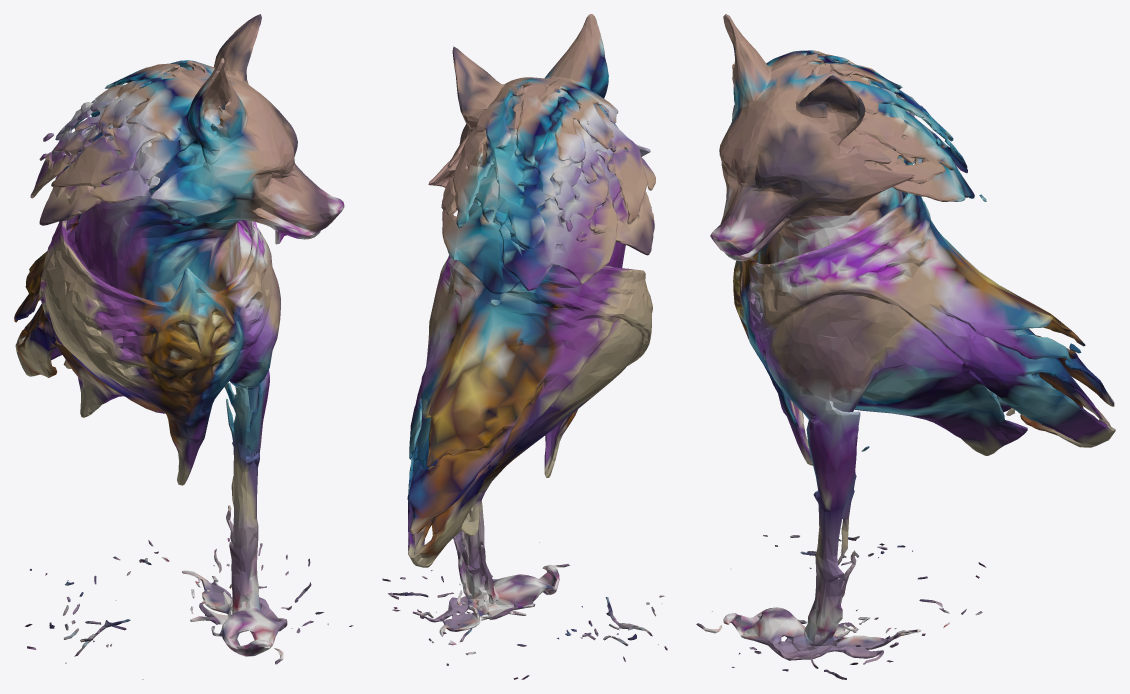
File: nineTailFoxSummon.glb
3 renders of one model, left to right at view 1: azimuth 30°, elevation 25°; view 2: azimuth 150°, elevation 25°; view 3: azimuth 270°, elevation 25°, orthographic. The views are drawn at different scales.
Parts seen in each view (by area): view 1: world; view 2: world; view 3: world.
Part boxes in pixels (<box>): world: <box>14,14,353,679</box>; world: <box>382,14,667,679</box>; world: <box>696,14,1115,679</box>.
Bounding box in the file's own units: 0.4974 × 1 × 0.6305.
